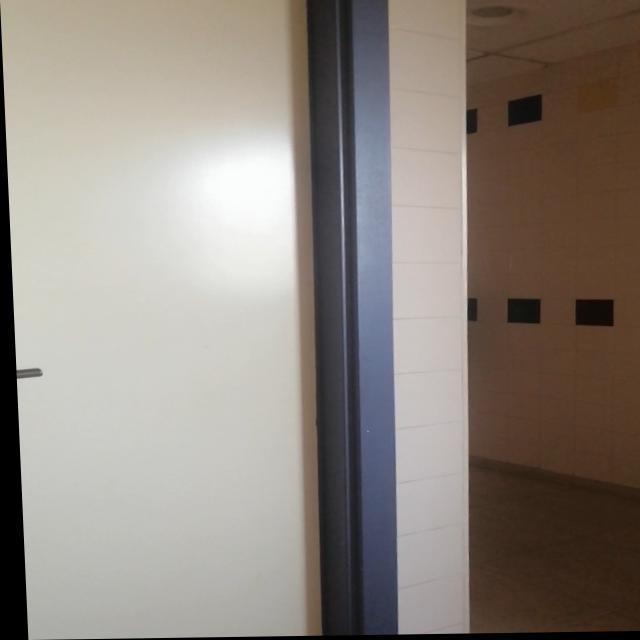door_handle: (13, 365, 45, 383)
